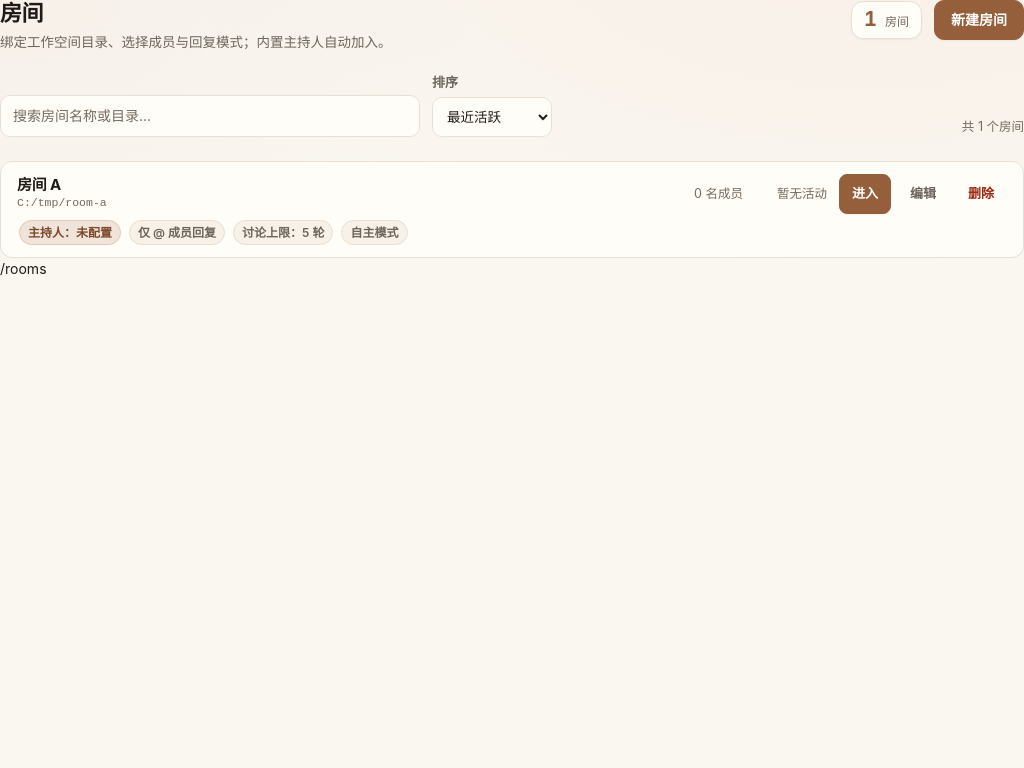
Test case: RoomsPage 右键菜单 › 编辑复用现有房间表单
The image size is (1024, 768).
Right-click the list item "房间 A" at x=512, y=209, box 0,161 -> 1023,258
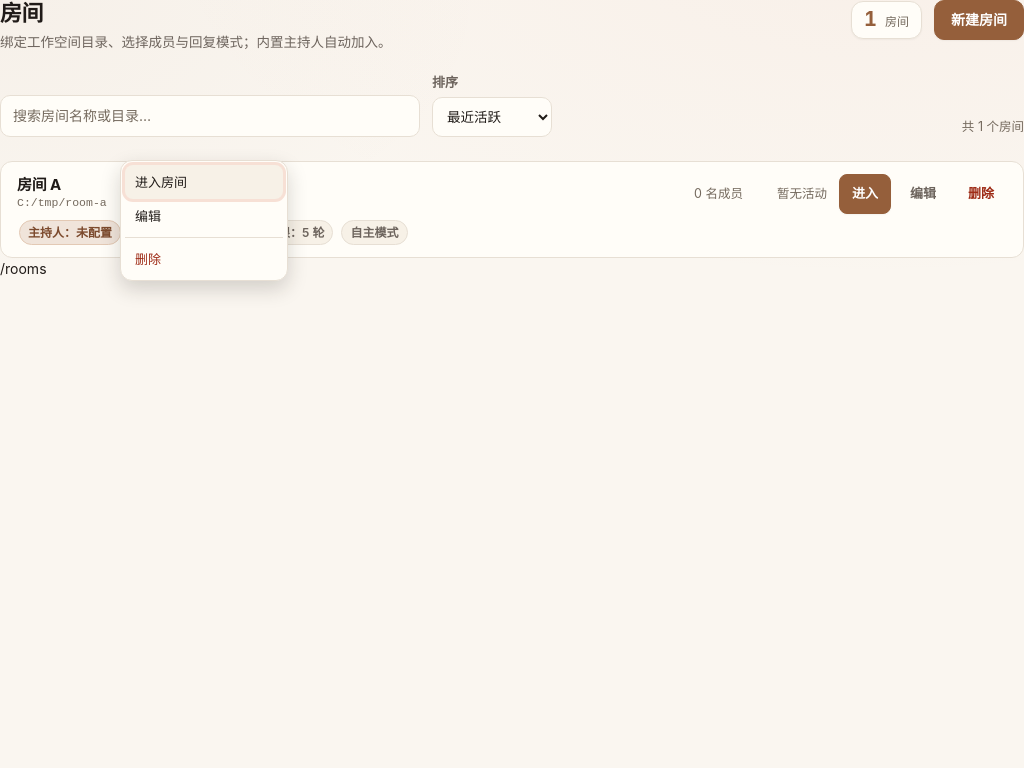
Click the menu item "编辑" at x=204, y=216, box 125,199 -> 283,233
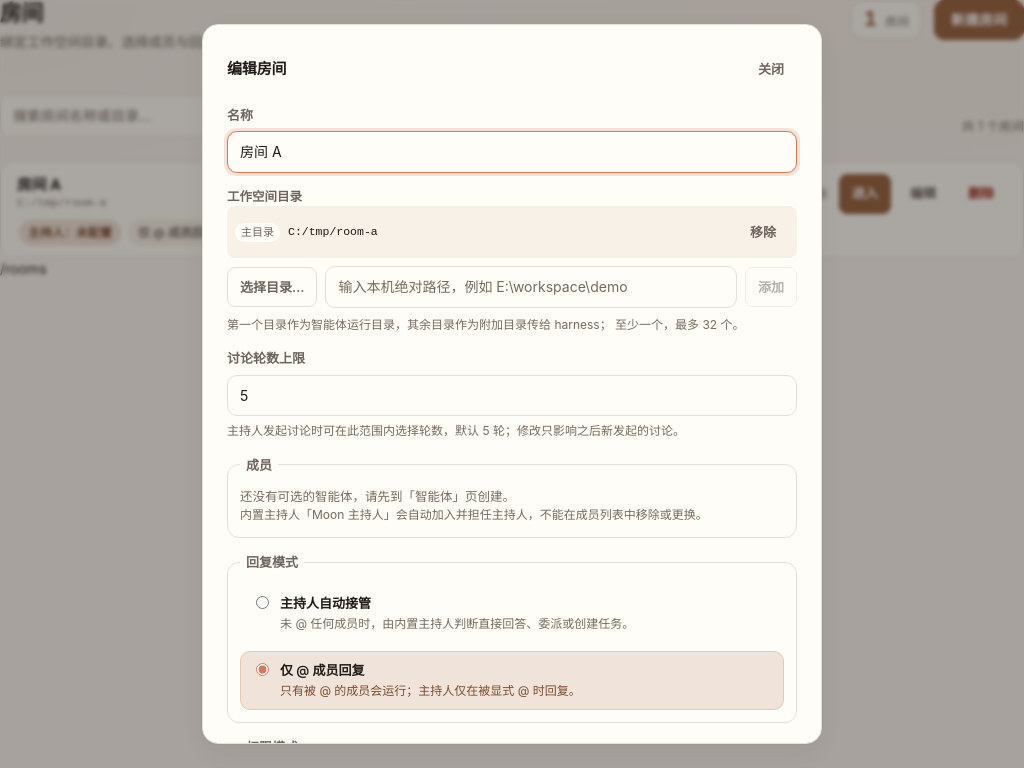
Expected: the heading "编辑房间" is shown, 227,59 -> 286,79
Expected: the field showing "房间 A" holds "房间 A", 227,131 -> 797,173
